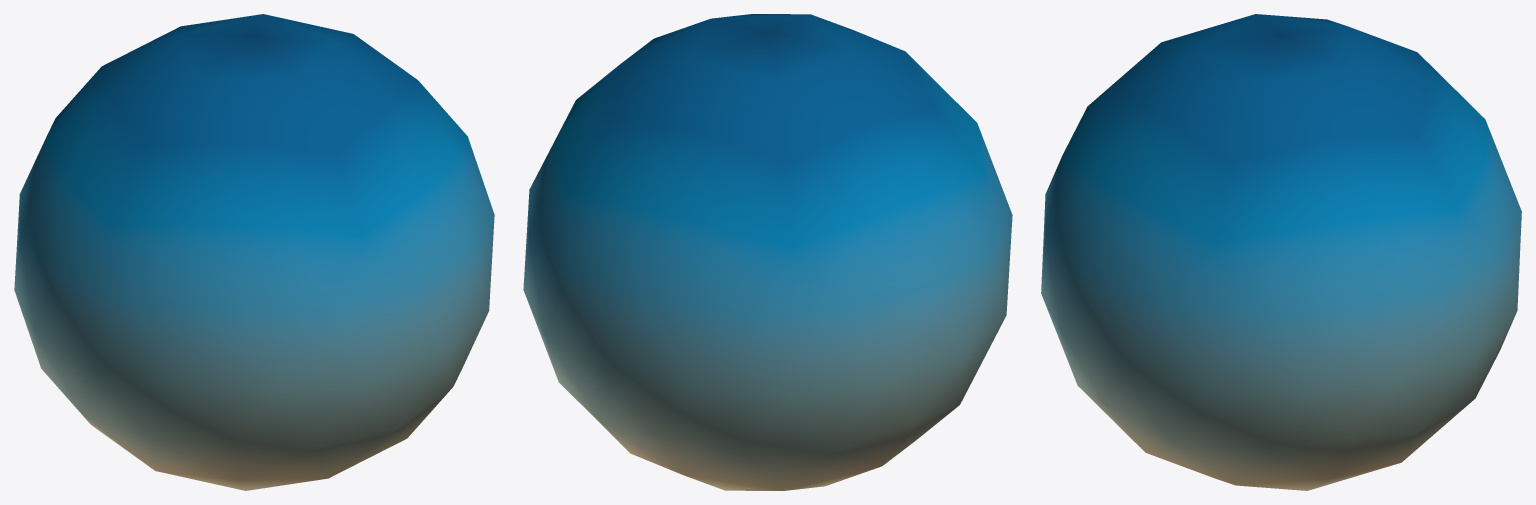
File: SkyDome1.dae
3 views of the same model, side by side, from view 1: azimuth 30°, elevation 25°; view 2: azimuth 150°, elevation 25°; view 3: azimuth 270°, elevation 25° (orthographic).
Visible parts, largest first — view 1: F3:GeoDome1-0; view 2: F3:GeoDome1-0; view 3: F3:GeoDome1-0.
Boxes of the visible parts, <box> form: F3:GeoDome1-0: <box>14,14,494,490</box>; F3:GeoDome1-0: <box>523,14,1012,490</box>; F3:GeoDome1-0: <box>1041,14,1521,490</box>.
Size of the model in its own units: 25 by 25 by 25.
